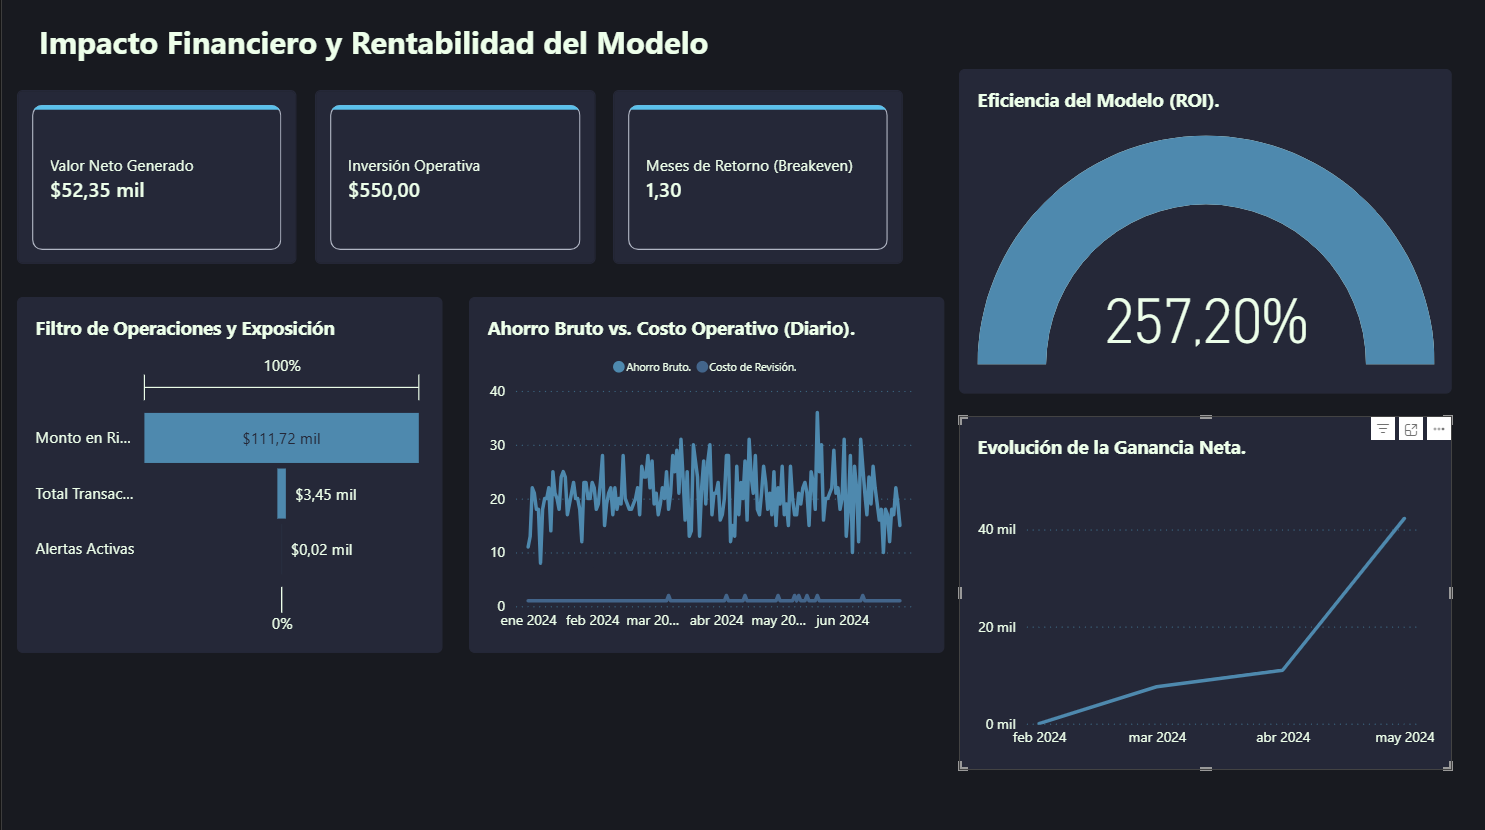

The dashboard page shown, as its layout file describes it:
{"tool":"powerbi","page":{"name":"Rentabilidad e Impacto","canvas":[1280,720],"ordinal":1},"visuals":[{"type":"cardVisual","fields":{"Data":["Sum(kpis_ejecutivos_pnl.valor_neto_generado_usd)"]},"box":[12.7,78.2,240.9,150],"z":0},{"type":"cardVisual","fields":{"Data":["Sum(kpis_ejecutivos_pnl.costo_operativo_usd)"]},"box":[270,78.2,241.8,150],"z":1000},{"type":"cardVisual","fields":{"Data":["Sum(kpis_ejecutivos_pnl.meses_breakeven)"]},"box":[527.3,78.2,250,150],"z":2000},{"type":"lineChart","title":"Ahorro Bruto vs. Costo Operativo (Diario).","fields":{"Category":["fact_transacciones.fecha_date"],"Y":["CountNonNull(fact_transacciones.monto_recuperado)","Count(fact_transacciones.costo_revision)"]},"box":[402.8,257,409.7,307.1],"z":3000},{"type":"funnel","title":"Filtro de Operaciones y Exposición","fields":{"Category":["kpis_resumen.kpi"],"Y":["Sum(kpis_resumen.valor)"]},"box":[12.9,257,366.6,307.1],"z":4000},{"type":"gauge","fields":{"Y":["agg.ROI nuevo"]},"box":[825.4,60.4,425.2,280.3],"z":5000},{"type":"lineChart","title":"Evolución de la Ganancia Neta.","fields":{"Y":["Sum(dim_evolucion_mensual.valor_neto)"],"Category":["dim_evolucion_mensual.anio_mes"]},"box":[825.4,359.7,425.2,305.3],"z":6000},{"type":"textbox","box":[31.8,18.2,667.3,41.8],"z":6001}]}

Visuals, with their boxes in screenshot pixels (x1, y1, x2, y2), scaled from the page's 1280x720 canvas onto the 1485x830 screenshot:
cardVisual - Sum(kpis_ejecutivos_pnl.valor_neto_generado_usd): box(15, 90, 294, 263)
cardVisual - Sum(kpis_ejecutivos_pnl.costo_operativo_usd): box(313, 90, 594, 263)
cardVisual - Sum(kpis_ejecutivos_pnl.meses_breakeven): box(612, 90, 902, 263)
"Ahorro Bruto vs. Costo Operativo (Diario)." lineChart: box(467, 296, 943, 650)
"Filtro de Operaciones y Exposición" funnel: box(15, 296, 440, 650)
gauge - agg.ROI nuevo: box(958, 70, 1451, 393)
"Evolución de la Ganancia Neta." lineChart: box(958, 415, 1451, 767)
textbox: box(37, 21, 811, 69)
